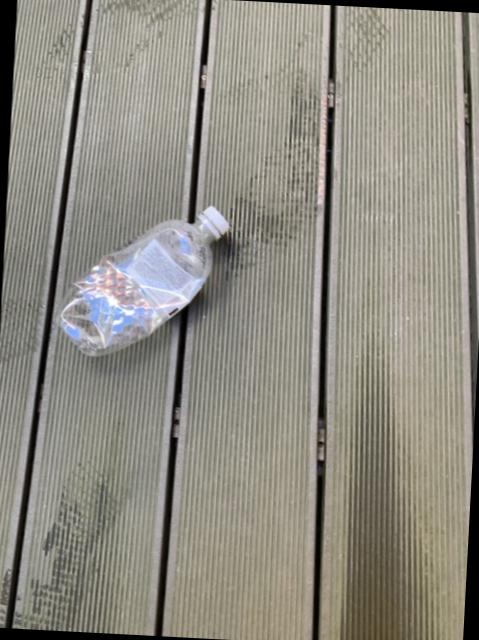plastic: (56, 204, 229, 353)
